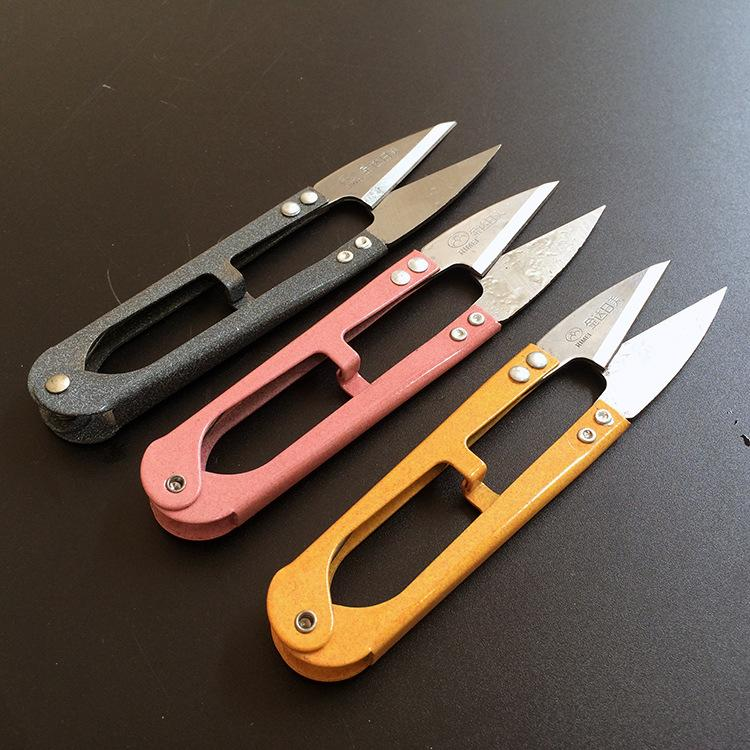scissor: (61, 110, 734, 665)
